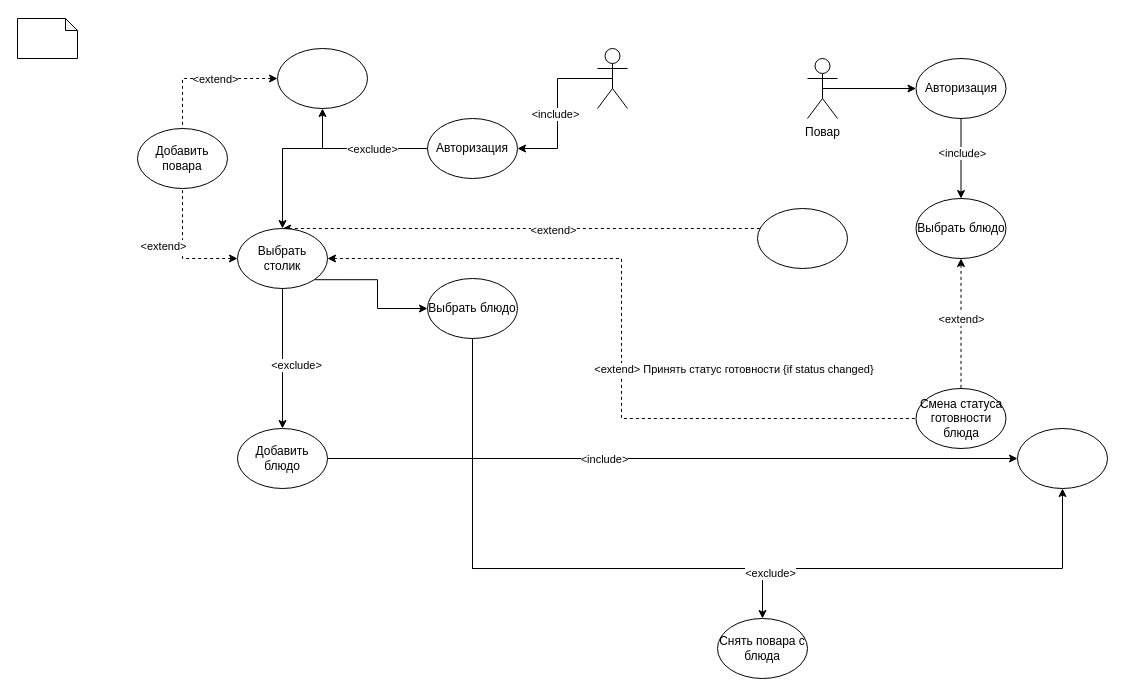
Image size: 1125x696. Some labels were removed from this diagram. The centre of each missing label's shape, as x and y in pixels:
"Exclude - include + extend" belongs at point 47,38.
"Взять столик" belongs at point 322,78.
"Назначение повара на блюдо" belongs at point 1062,458.
"Удалить столик" belongs at point 802,238.
"Шеф-повар" belongs at point 612,78.
